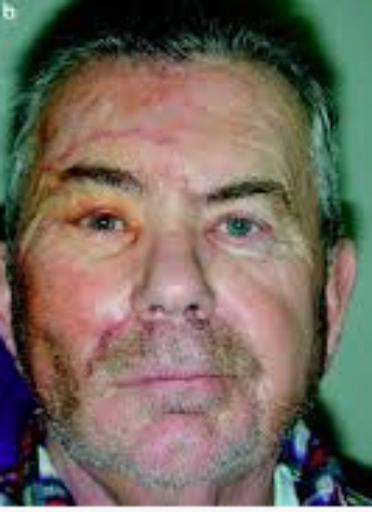left_eye: (211, 217, 273, 245)
left_lip_corner: (214, 364, 242, 389)
right_eye: (70, 212, 136, 243)
right_lip_corner: (111, 373, 139, 399)
